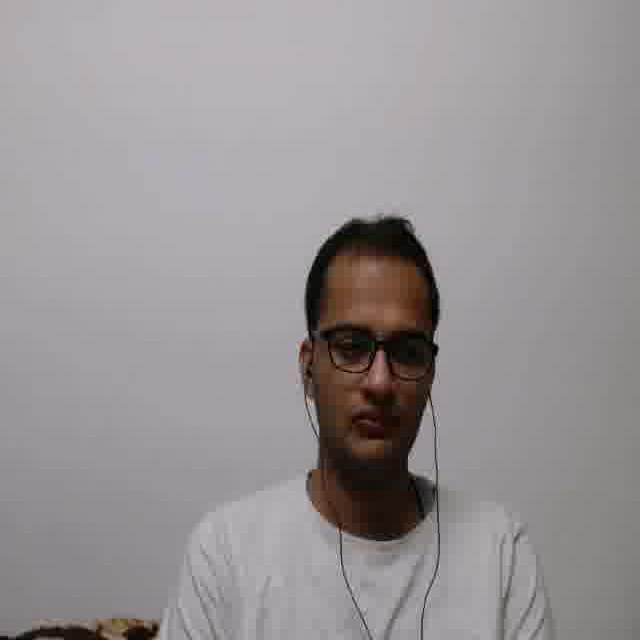Confusion: (315, 269, 429, 471)
